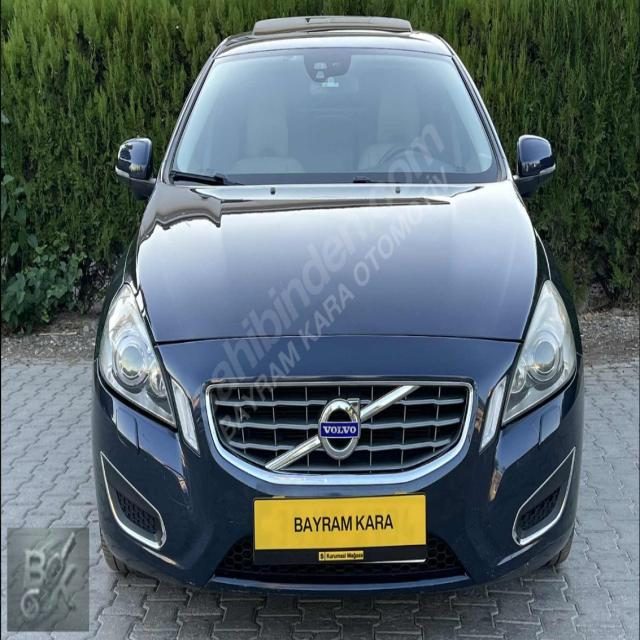volvo: (317, 393, 368, 461)
